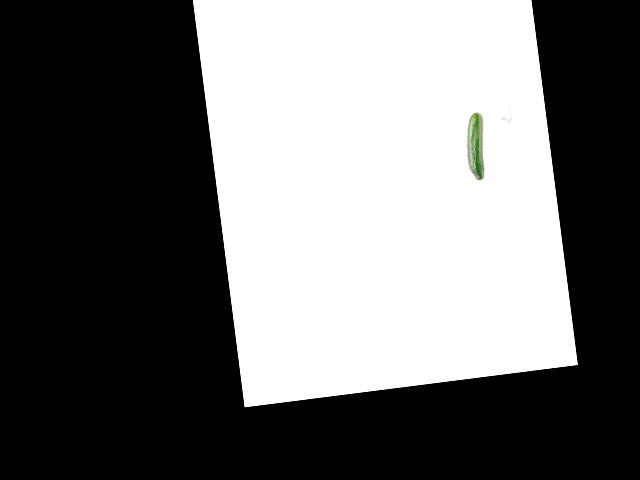cucumber: (462, 111, 489, 181)
